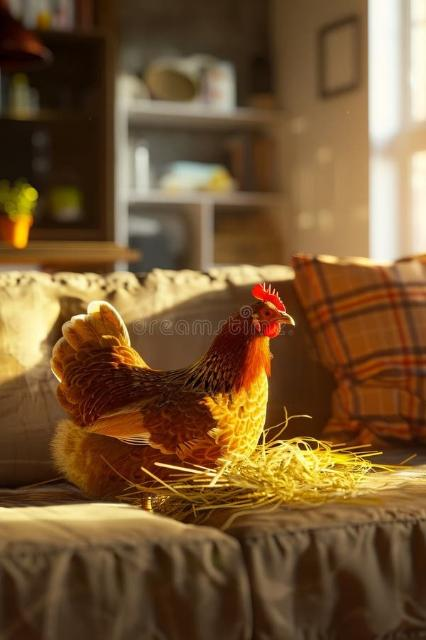Chicken: (47, 279, 299, 504)
